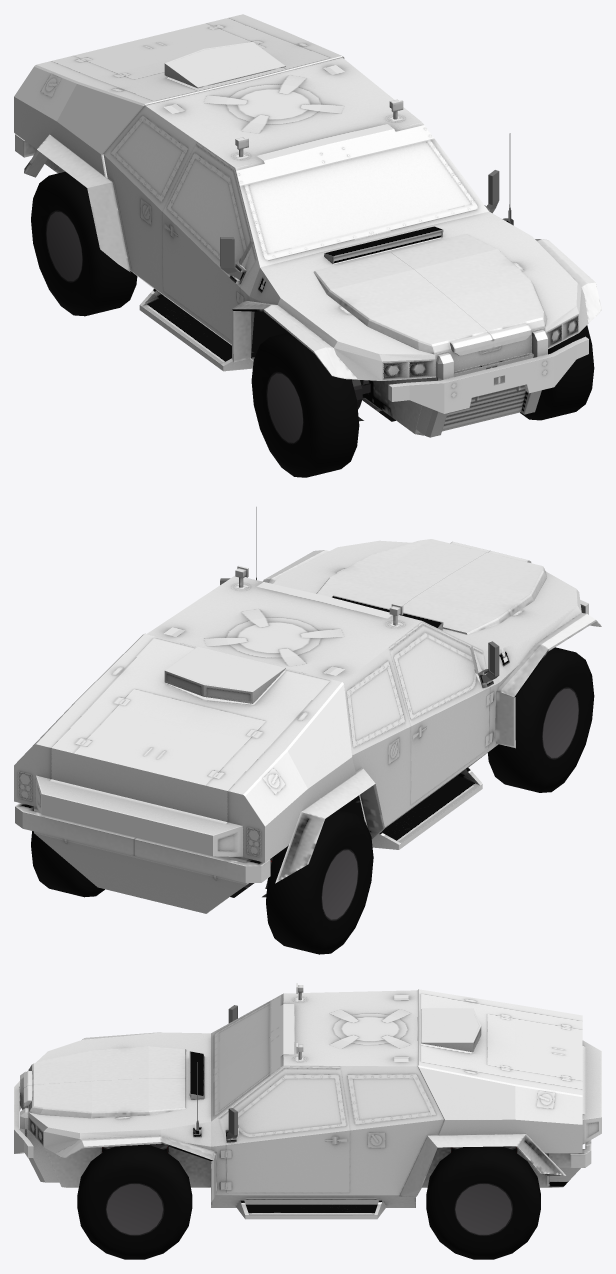
Rendered from armor-car.glb.
The picture shows the model from 3 angles, top to bottom: view 1: azimuth 30°, elevation 25°; view 2: azimuth 150°, elevation 25°; view 3: azimuth 270°, elevation 25°; orthographic projection. The views are drawn at different scales.
Visible parts, largest first — view 1: Armor car, f_t_r, b_t_r, f_t_l; view 2: Armor car, b_t_r, f_t_r, b_t_l; view 3: Armor car, f_t_l, b_t_l.
Part boxes in pixels (left/top/right/bottom): Armor car: left=14, top=14, right=601, bottom=437; f_t_r: left=251, top=332, right=359, bottom=477; b_t_r: left=31, top=171, right=137, bottom=316; f_t_l: left=520, top=325, right=594, bottom=420; Armor car: left=14, top=507, right=601, bottom=913; b_t_r: left=266, top=810, right=373, bottom=954; f_t_r: left=488, top=647, right=594, bottom=792; b_t_l: left=31, top=831, right=104, bottom=897; Armor car: left=14, top=983, right=601, bottom=1219; f_t_l: left=77, top=1144, right=192, bottom=1259; b_t_l: left=426, top=1146, right=540, bottom=1259.
Bounding box in the file's own units: 2.57 × 2.09 × 5.73.
3 materials, 3 textured.
